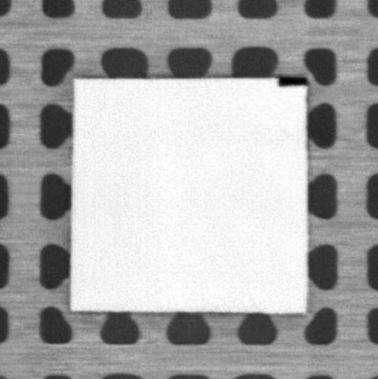DIE_BROKEN: (275, 74, 310, 87)
